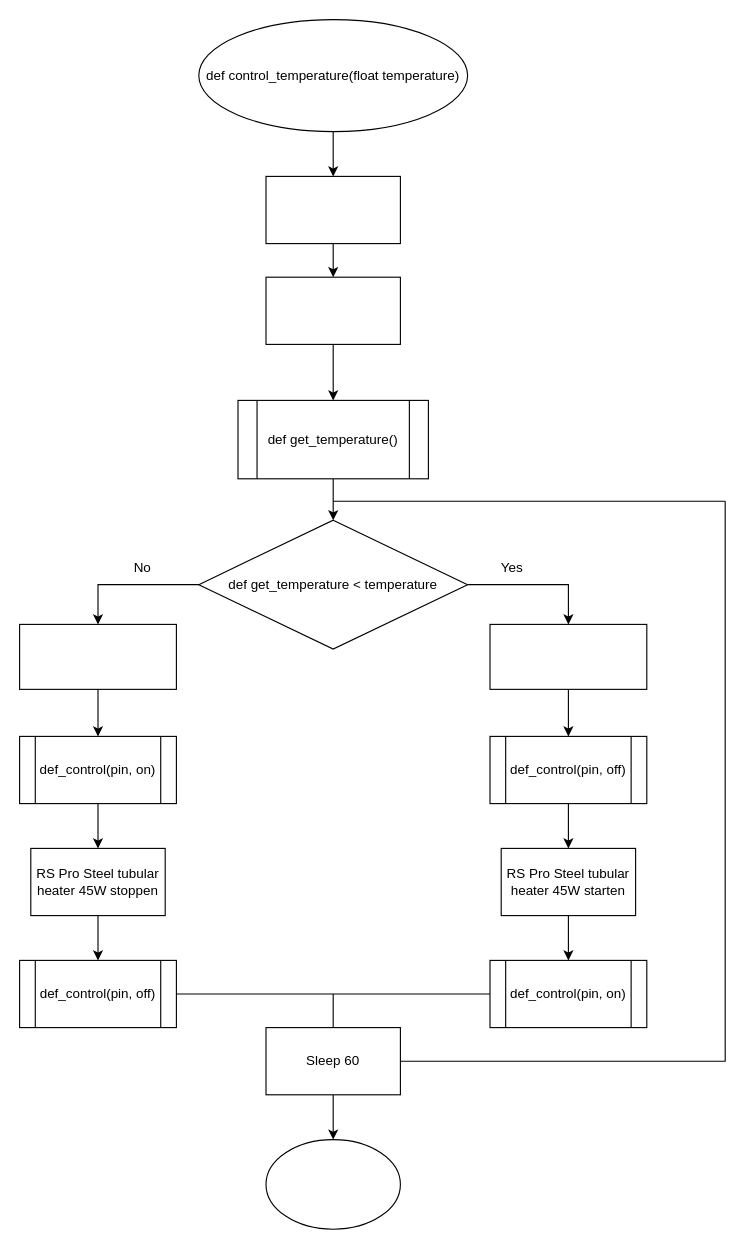
Image size: 746x1249. Some labels were removed from this diagram. The centre of each missing label's shape, as x and y in pixels:
"Ende" belongs at (x=332, y=1183).
"Klassen importieren" belongs at (x=332, y=209).
"Reely Mini-Servo Analog-Servo Getriebe schliessen" belongs at (x=568, y=656).
"Reely Mini-Servo Analog-Servo Getriebe öffnen" belongs at (x=97, y=656).
"Variablen deklarieren" belongs at (x=332, y=310).
